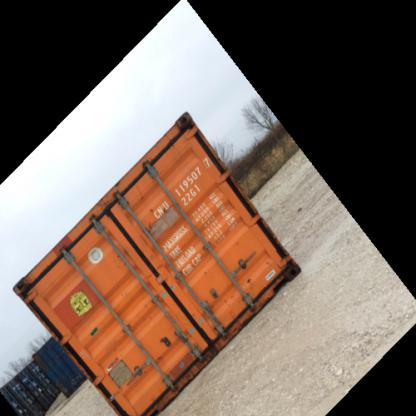Damage: (147, 199, 182, 237), (120, 242, 148, 275), (207, 282, 226, 326), (175, 113, 200, 139), (83, 318, 110, 341), (14, 274, 36, 291), (238, 266, 254, 288)
